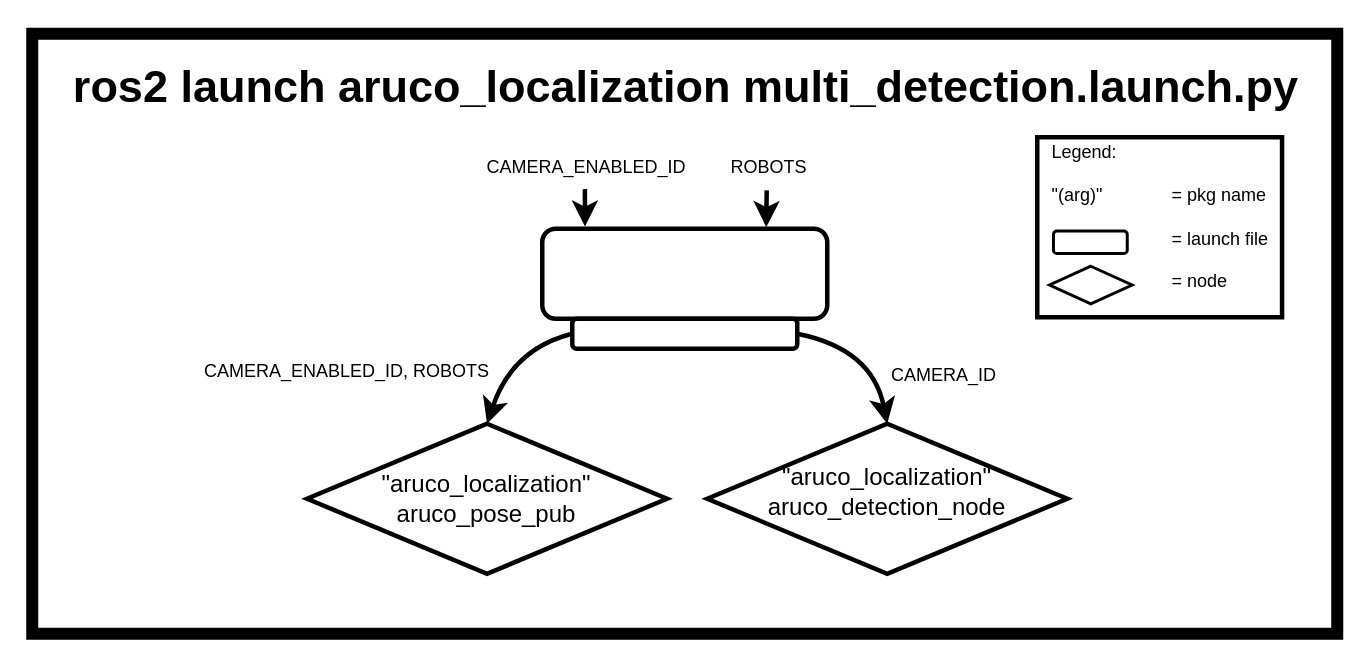
Image size: 1368x666. Some labels were removed from this diagram. The centre of each missing label's shape, as x and y in pixels:
"aruco_localization" multi_detection.launch.py: [684,273]
for each camera_id: [684,333]
